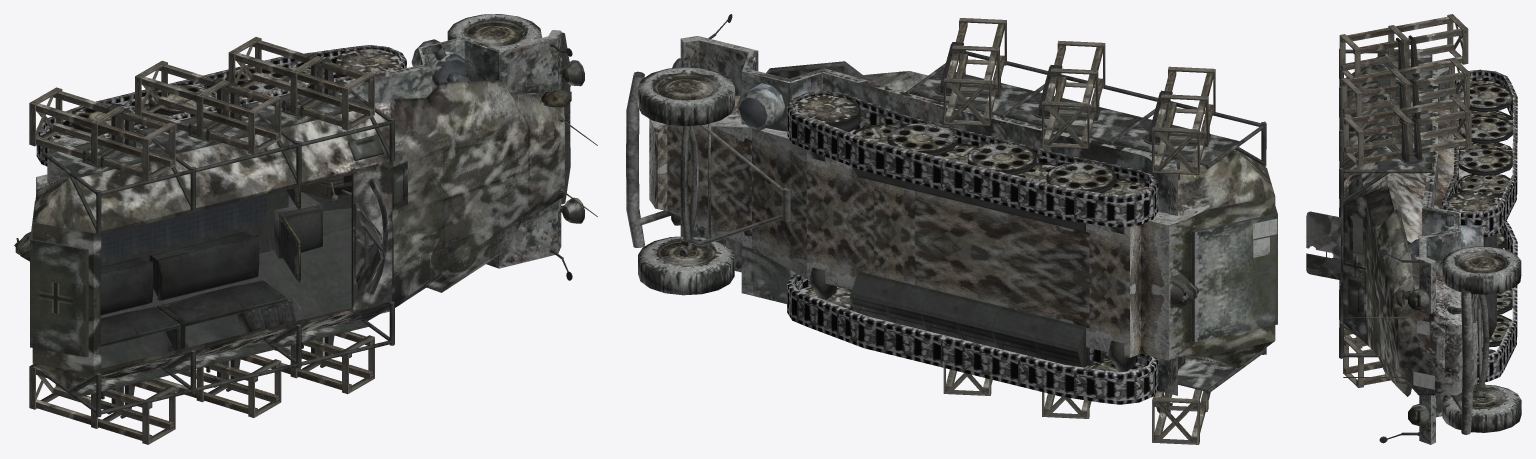
Rendered from vehicle_halftrack_rockets_snow.glb.
3 renders of one model, left to right at view 1: azimuth 30°, elevation 25°; view 2: azimuth 150°, elevation 25°; view 3: azimuth 270°, elevation 25°, orthographic. The views are drawn at different scales.
Size of the model in its own units: 240 by 120 by 90.88.
Materials: 3 (3 with a texture image).
